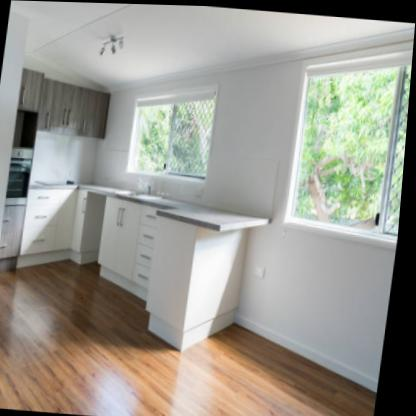Cabinet: (20, 188, 159, 299), (20, 71, 111, 139)
Window: (129, 84, 219, 183)
